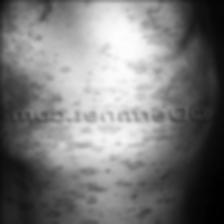Non-Cancerous Skin Condition: (78, 1, 198, 106)
